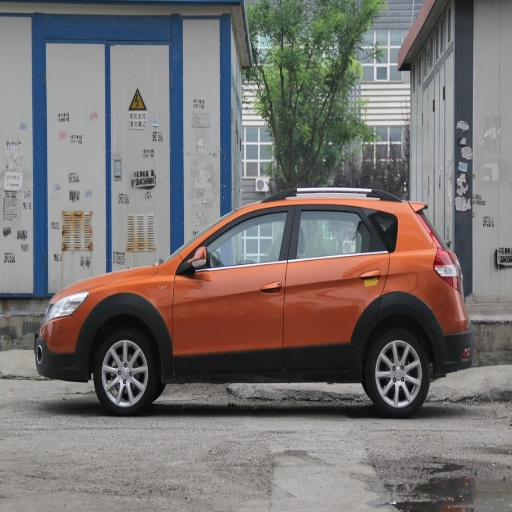back_left_door: (283, 203, 387, 369)
front_left_door: (173, 204, 293, 367)
